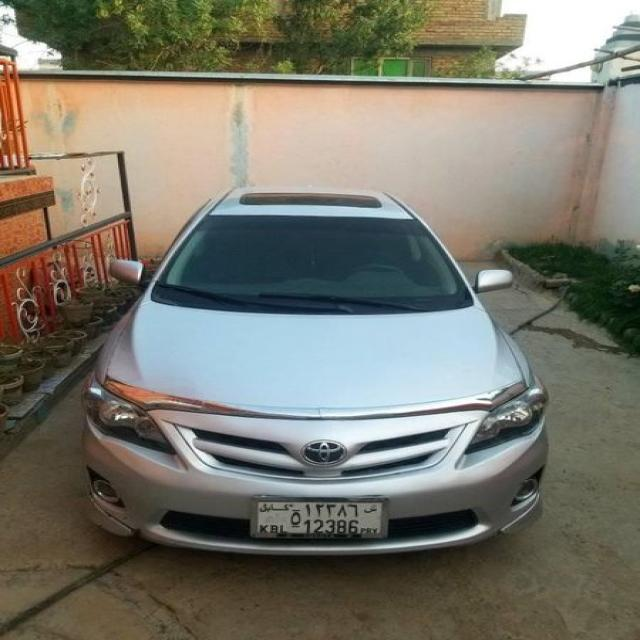Plate: (258, 500, 388, 540)
